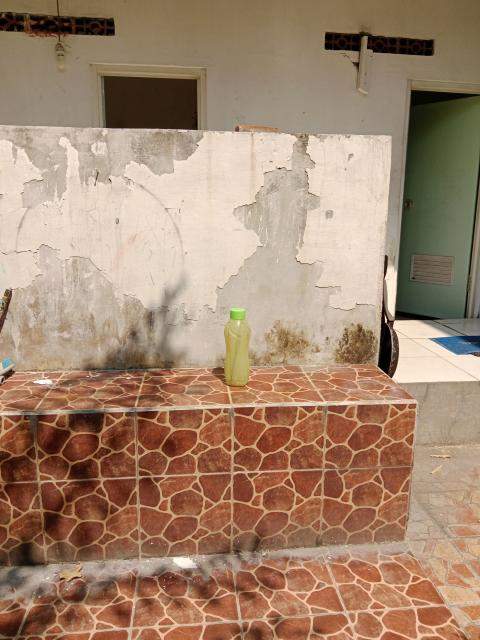botol: (223, 301, 254, 395)
